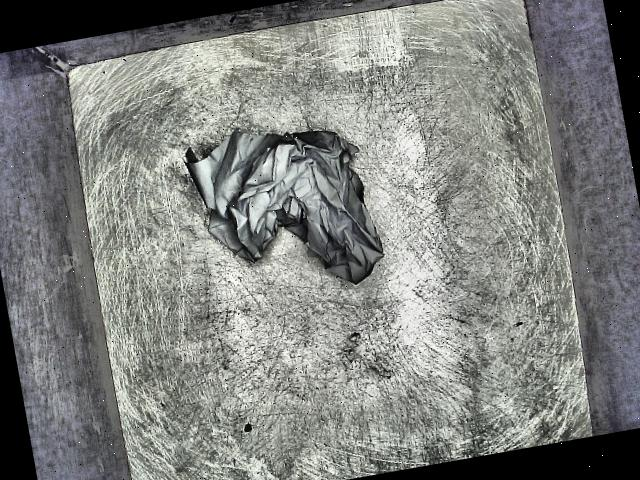Paper: (165, 105, 404, 330)
